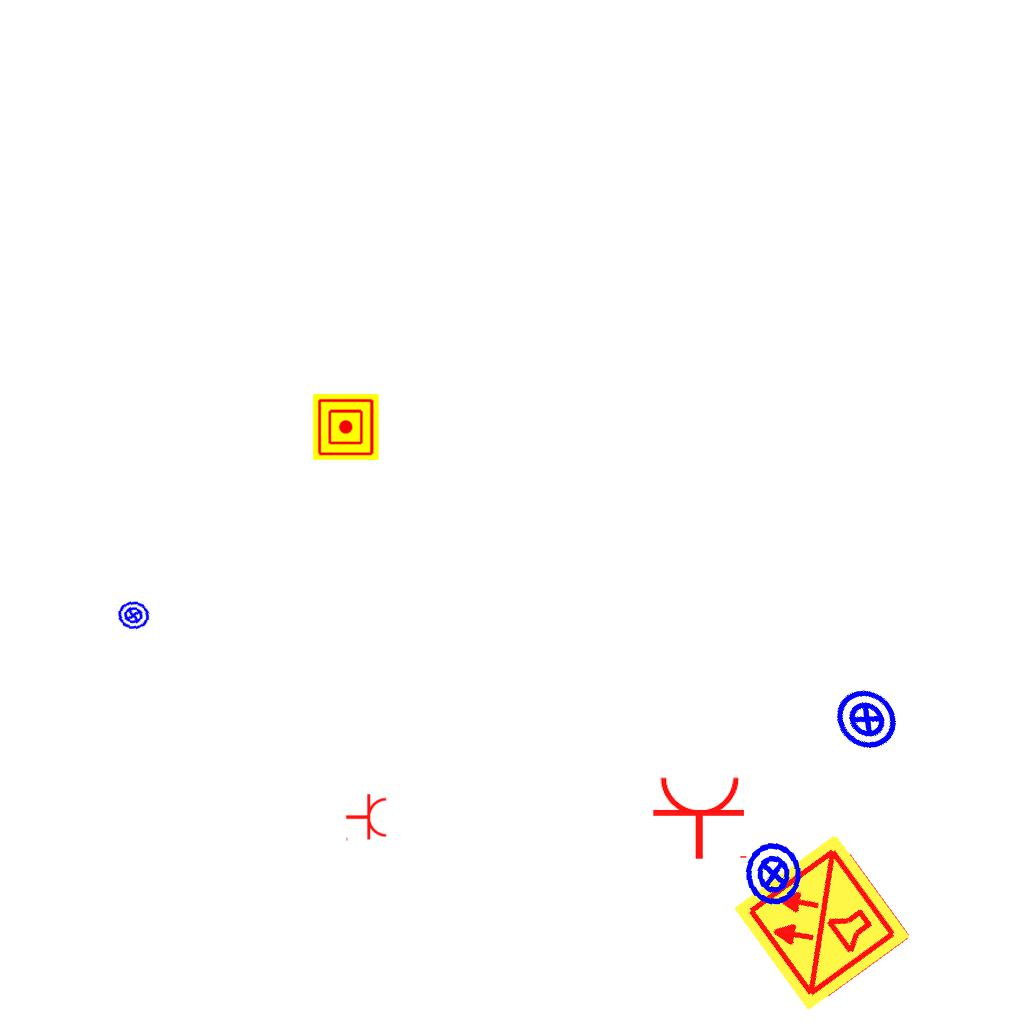NAM-Nichtautomatischer_Melder: (313, 394, 379, 460)
OKW_Multisensormelder_(Kombination_optischer_Rauch-Kahlenmonoxid_Waerme-Melder): (729, 829, 915, 1015)
Schukosteckdose_einfach: (651, 774, 751, 861), (345, 793, 388, 843)
Taster_beleuchtet: (820, 672, 914, 766), (737, 837, 811, 911), (114, 596, 153, 635)
